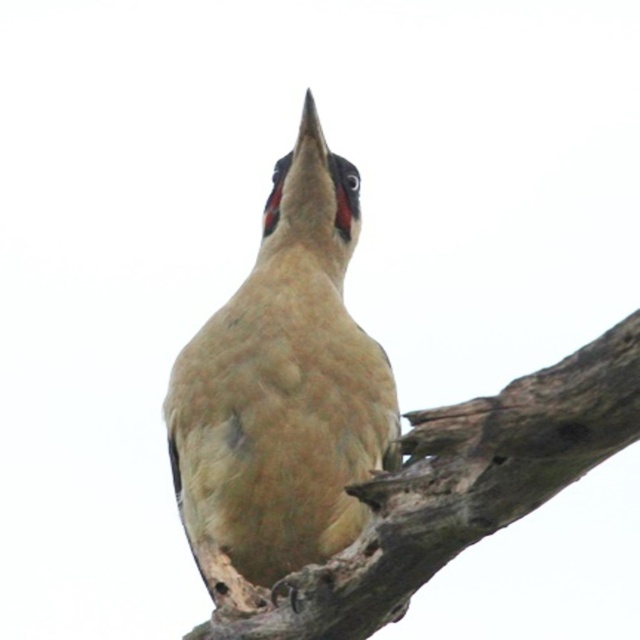Woodpecker: (160, 86, 412, 623)
